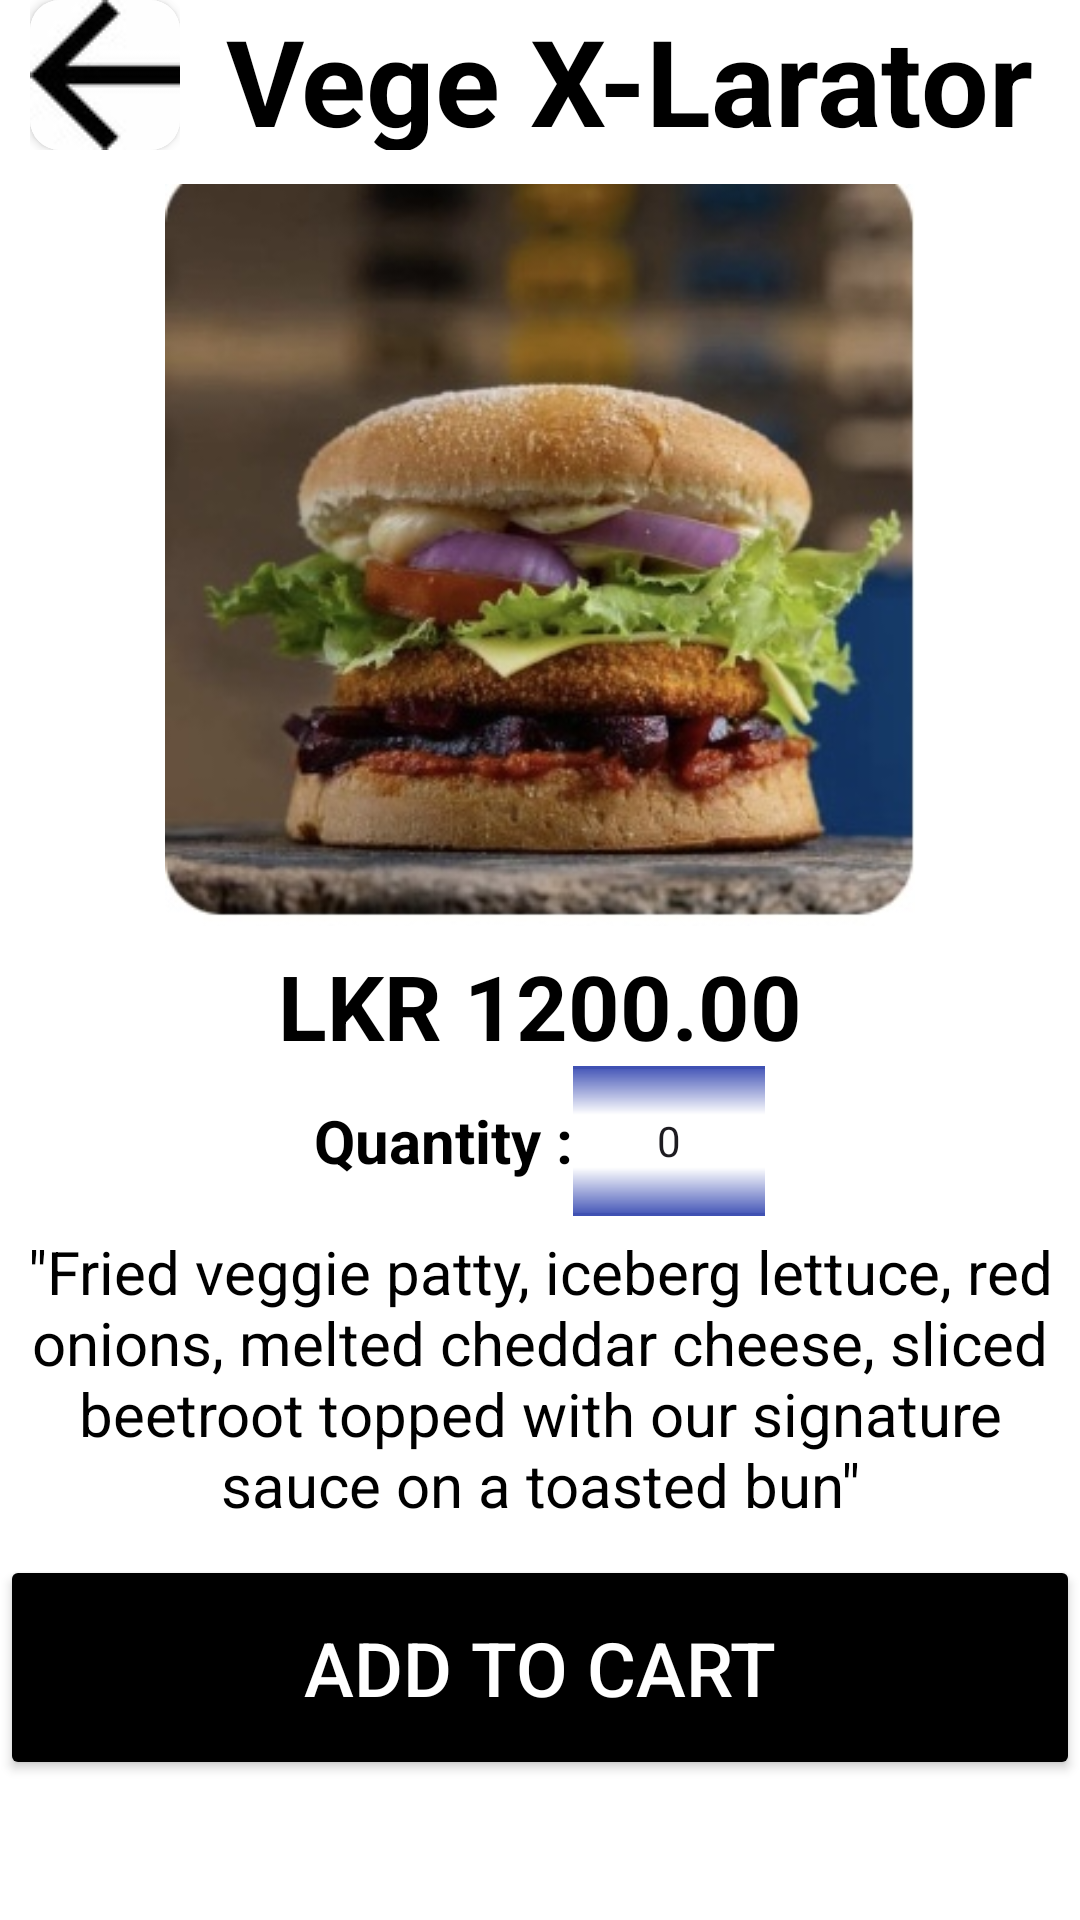

Where icons sit on this 1080*1920 app screen, as (x1, y1, x2, y2):
back: (30, 0, 180, 150)
